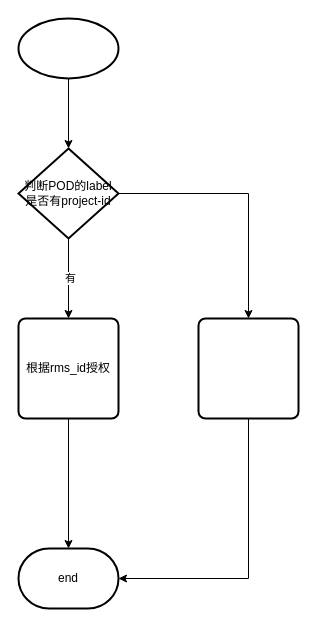
The diagram is 316 pixels wide and 626 high, and some of its shapes have lost their labels. The centre of each missing label's shape, as x and y in pixels:
"start" belongs at [68,48].
"按老的根据三级业务树授权" belongs at [248,368].
